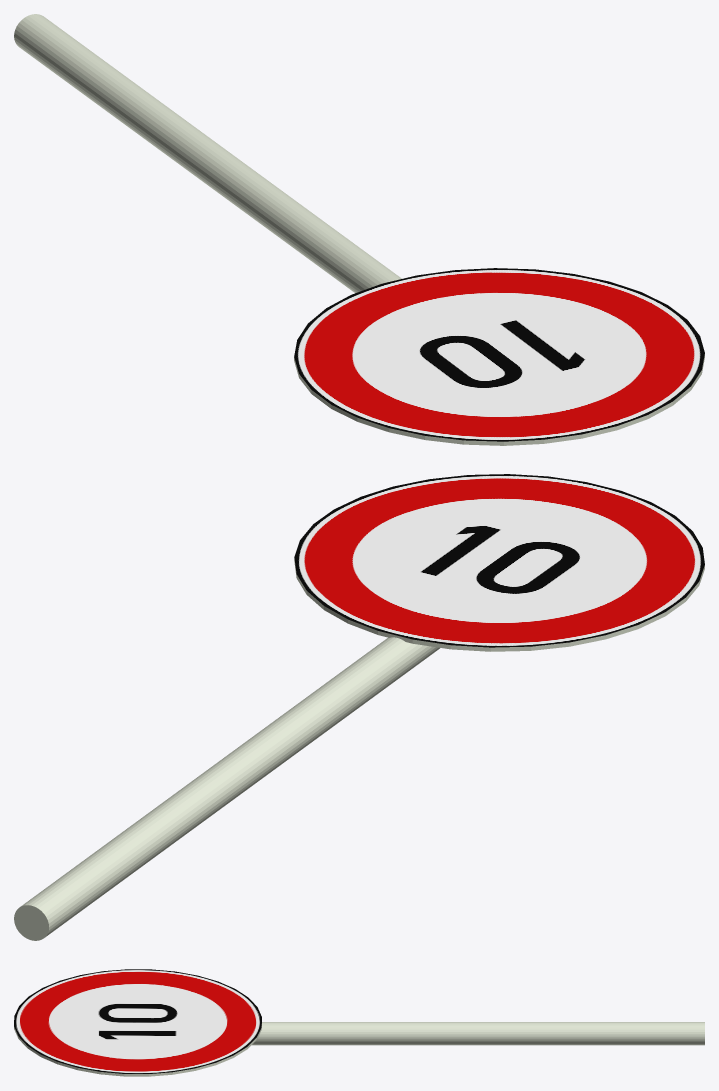
The picture shows the model from 3 angles, top to bottom: view 1: azimuth 30°, elevation 25°; view 2: azimuth 150°, elevation 25°; view 3: azimuth 270°, elevation 25°; orthographic projection. The views are drawn at different scales.
Visible parts, largest first — view 1: Circle.009, 10_tube; view 2: Circle.009, 10_tube; view 3: Circle.009, 10_tube.
Boxes of the visible parts, x1,y1,x2,y2 form: Circle.009: [294, 268, 704, 445]; 10_tube: [14, 14, 401, 293]; Circle.009: [294, 474, 704, 651]; 10_tube: [14, 637, 439, 940]; Circle.009: [14, 969, 261, 1076]; 10_tube: [252, 1022, 704, 1045].
Size of the model in its own units: 0.0516 by 0.00514 by 0.1437.
Materials: 3 (1 with a texture image).
